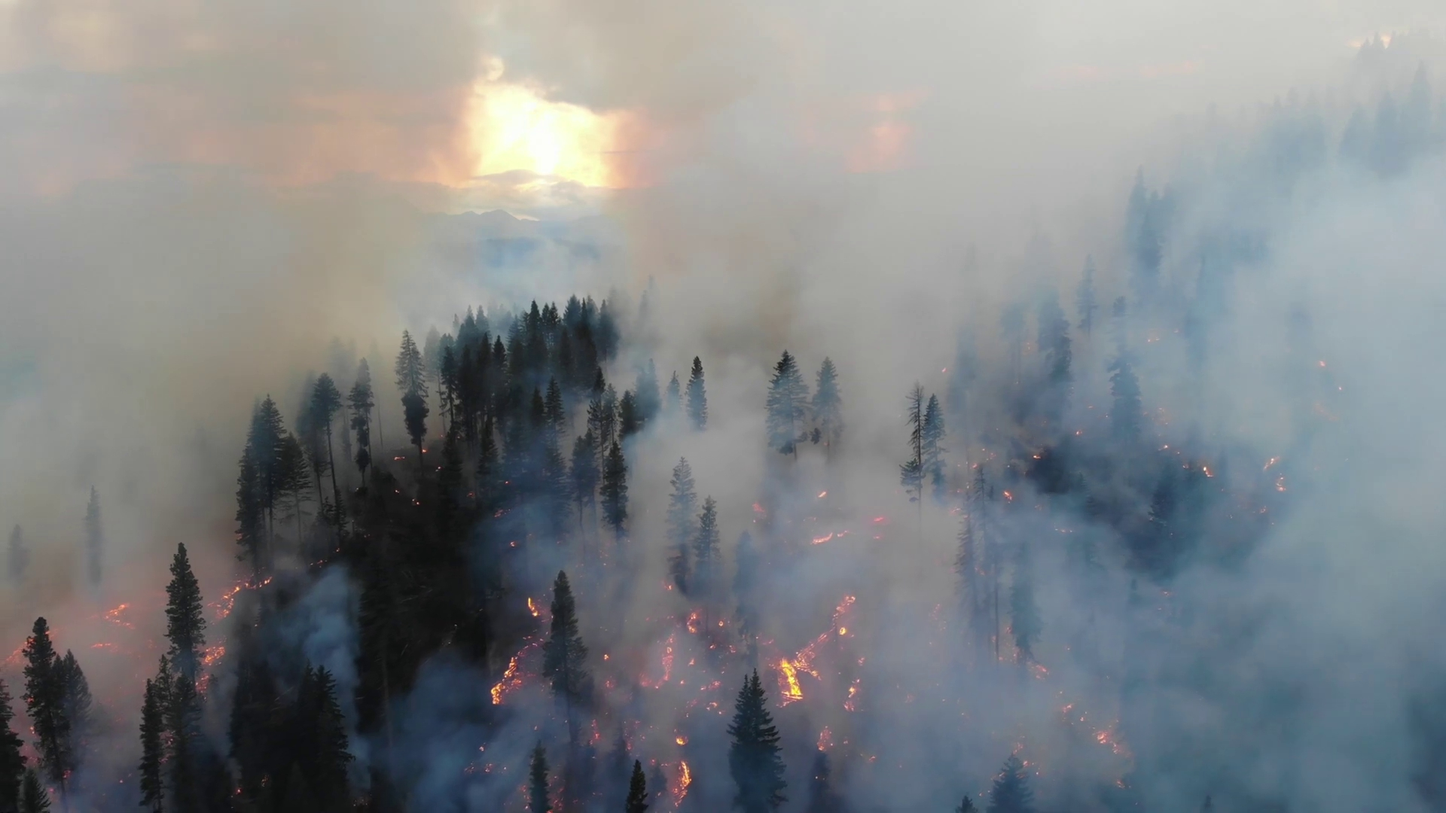forest_fire: (595, 610, 742, 812), (760, 595, 867, 718), (197, 577, 273, 692), (489, 595, 551, 708), (90, 599, 161, 662), (805, 720, 846, 763), (580, 714, 617, 747)
